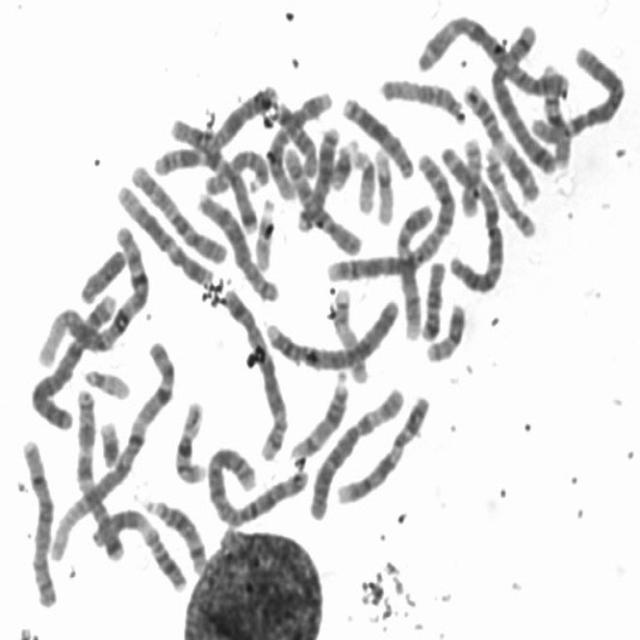A1: (44, 334, 179, 562), (32, 220, 153, 368)
A2: (321, 142, 461, 284), (203, 438, 312, 530)
A3: (412, 9, 573, 100), (434, 137, 508, 297)
B4: (28, 286, 120, 433), (262, 291, 402, 373)
B5: (218, 281, 290, 463), (487, 17, 559, 178)
C10: (127, 158, 229, 266), (280, 143, 365, 258)
C11: (458, 75, 543, 206), (88, 502, 192, 594)
C12: (114, 174, 218, 288), (265, 86, 334, 202)
C6: (304, 380, 408, 522), (528, 40, 626, 144)
C7: (164, 113, 260, 235), (71, 382, 129, 562)
C8: (193, 187, 282, 304), (15, 431, 59, 611)
C9: (331, 389, 433, 507), (393, 198, 432, 343)
D13: (338, 90, 418, 182), (292, 119, 342, 233)
D14: (287, 365, 351, 462), (141, 492, 210, 576)
D15: (376, 69, 471, 126), (200, 144, 272, 198)
E16: (537, 59, 573, 171), (170, 394, 210, 486)
E17: (481, 144, 538, 240), (328, 282, 371, 386)
E18: (268, 98, 322, 181), (416, 254, 448, 342)
F19: (369, 142, 396, 225), (348, 142, 376, 216)
F20: (420, 296, 470, 365), (457, 133, 484, 220)
G21: (326, 134, 360, 192), (96, 414, 123, 470)
G22: (250, 192, 277, 272), (79, 361, 133, 401)
X: (153, 78, 281, 174)
Y: (77, 244, 129, 306)
